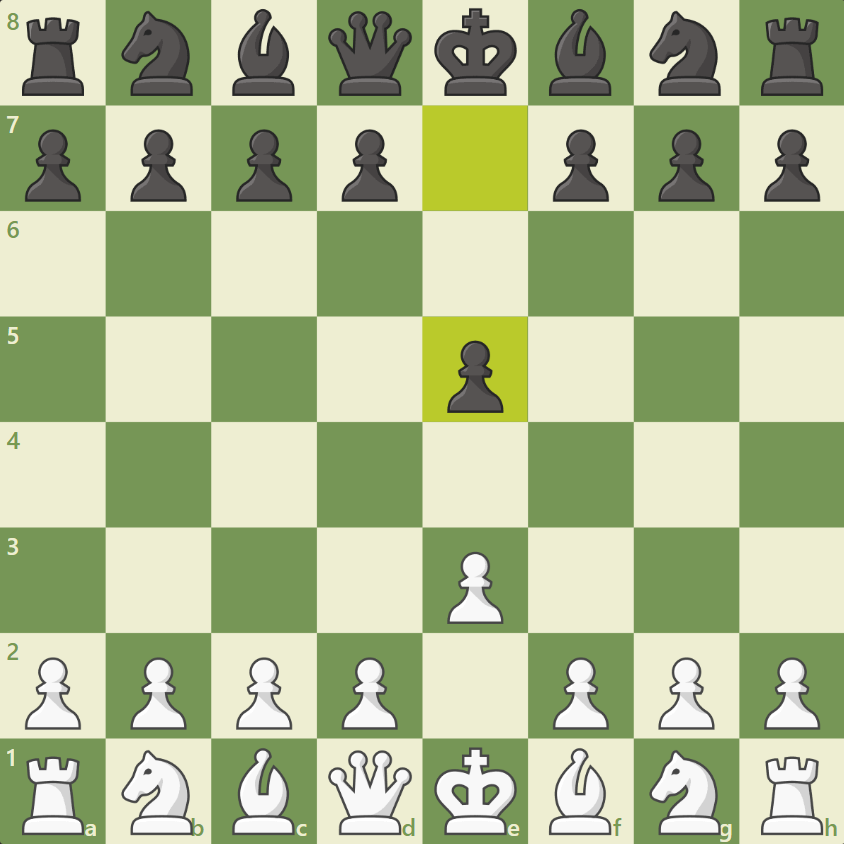B: (230, 746, 296, 839), (547, 744, 613, 837)
K: (432, 744, 520, 837)
N: (647, 747, 725, 839), (119, 745, 197, 837)
P: (443, 549, 507, 627), (337, 654, 401, 732), (759, 654, 823, 732), (654, 654, 718, 732), (547, 654, 611, 732), (20, 654, 84, 732), (125, 653, 189, 731), (231, 653, 295, 731)
Q: (324, 746, 415, 838)
R: (20, 754, 88, 839), (758, 752, 826, 837)
b: (544, 7, 614, 99), (228, 7, 297, 99)
k: (431, 7, 520, 98)
n: (647, 8, 729, 100), (118, 8, 199, 99)
p: (443, 338, 505, 415), (760, 126, 822, 203), (654, 127, 716, 204), (549, 127, 611, 204), (337, 126, 399, 203), (232, 127, 294, 204), (126, 127, 188, 204), (20, 126, 82, 203)
q: (325, 8, 413, 99)
r: (15, 13, 90, 100), (757, 13, 829, 100)
